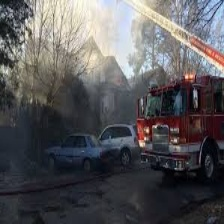smoke: (26, 4, 109, 92)
